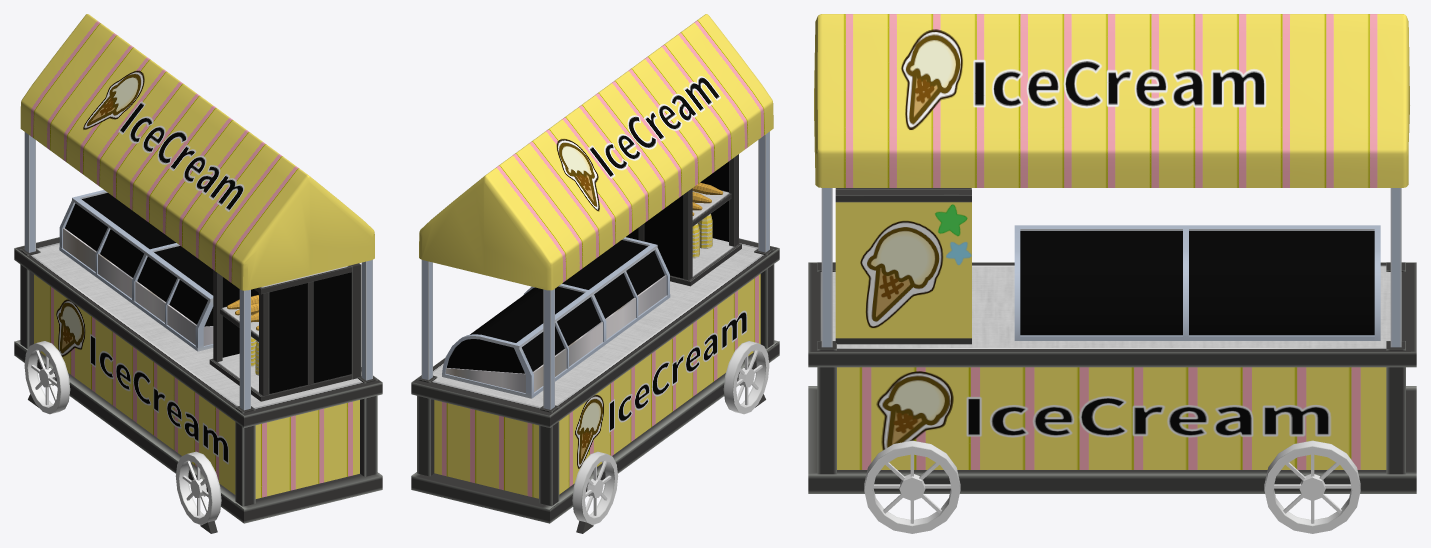
Rendered from IceCreamStall.fbx.
3 views of the same model, side by side, from view 1: azimuth 30°, elevation 25°; view 2: azimuth 150°, elevation 25°; view 3: azimuth 270°, elevation 25° (orthographic). The views are drawn at different scales.
Visible parts, largest first — view 1: Roof, Platform, Glass (×2), OtherCase, PillarB, PillarA, ShowcaseGlassA, IceCaseB, ShowcaseGlassB, IceCaseA, FrontWheel, BackWheel; view 2: Roof, Platform, ShowcaseGlassB, PillarB, PillarA, IceCaseB, ShowcaseGlassA, OtherCase, IceCaseA, Glass (×2), BackWheel, FrontWheel; view 3: Roof, Platform, ShowcaseGlassB, OtherCase, IceCaseB, PillarB, FrontWheel, BackWheel, PillarA.
Boxes of the visible parts, bbox=[...] form: Roof: bbox=[20, 14, 374, 290]; Platform: bbox=[14, 237, 382, 523]; Glass (×2): bbox=[222, 272, 351, 393]; OtherCase: bbox=[209, 263, 361, 401]; PillarB: bbox=[20, 248, 377, 509]; PillarA: bbox=[24, 132, 372, 410]; ShowcaseGlassA: bbox=[65, 203, 207, 324]; IceCaseB: bbox=[59, 190, 213, 351]; ShowcaseGlassB: bbox=[82, 193, 213, 326]; IceCaseA: bbox=[63, 228, 213, 345]; FrontWheel: bbox=[24, 341, 70, 414]; BackWheel: bbox=[175, 451, 221, 524]; Roof: bbox=[419, 14, 773, 290]; Platform: bbox=[411, 238, 779, 523]; ShowcaseGlassB: bbox=[447, 240, 647, 373]; PillarB: bbox=[417, 248, 774, 509]; PillarA: bbox=[421, 131, 769, 409]; IceCaseB: bbox=[442, 237, 670, 398]; ShowcaseGlassA: bbox=[522, 250, 664, 371]; OtherCase: bbox=[638, 154, 741, 286]; IceCaseA: bbox=[445, 275, 666, 393]; Glass (×2): bbox=[626, 161, 728, 278]; BackWheel: bbox=[723, 341, 769, 414]; FrontWheel: bbox=[572, 451, 618, 524]; Roof: bbox=[814, 14, 1409, 187]; Platform: bbox=[808, 262, 1416, 493]; ShowcaseGlassB: bbox=[1020, 231, 1374, 335]; OtherCase: bbox=[835, 188, 971, 344]; IceCaseB: bbox=[1014, 225, 1380, 340]; PillarB: bbox=[817, 262, 1405, 474]; FrontWheel: bbox=[1264, 440, 1360, 533]; BackWheel: bbox=[864, 440, 960, 533]; PillarA: bbox=[821, 188, 1401, 347].
Bounding box in the file's own units: 1440 × 3027 × 3571.
